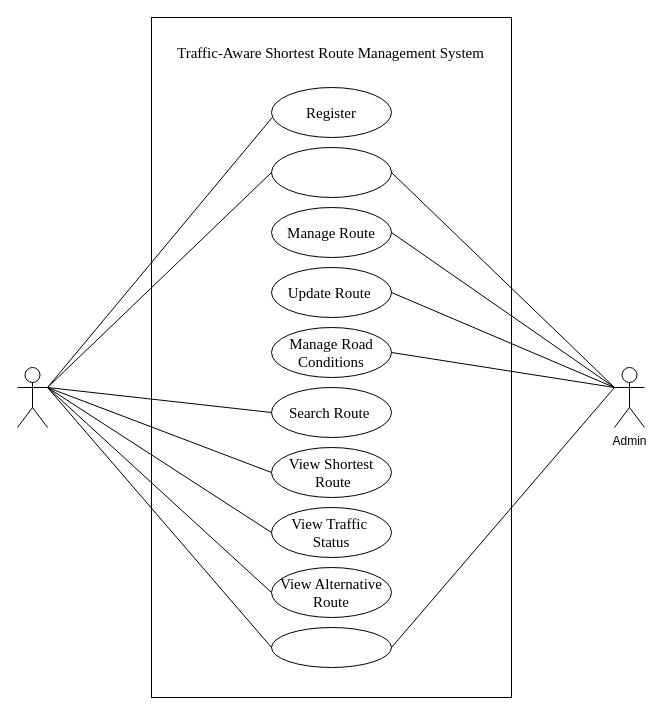
This 664x715 diagram has some shape labels left out. Each missing label, with the box of its shape:
Login: (270, 146, 392, 198)
Logout: (270, 626, 392, 668)
User: (16, 366, 48, 428)
